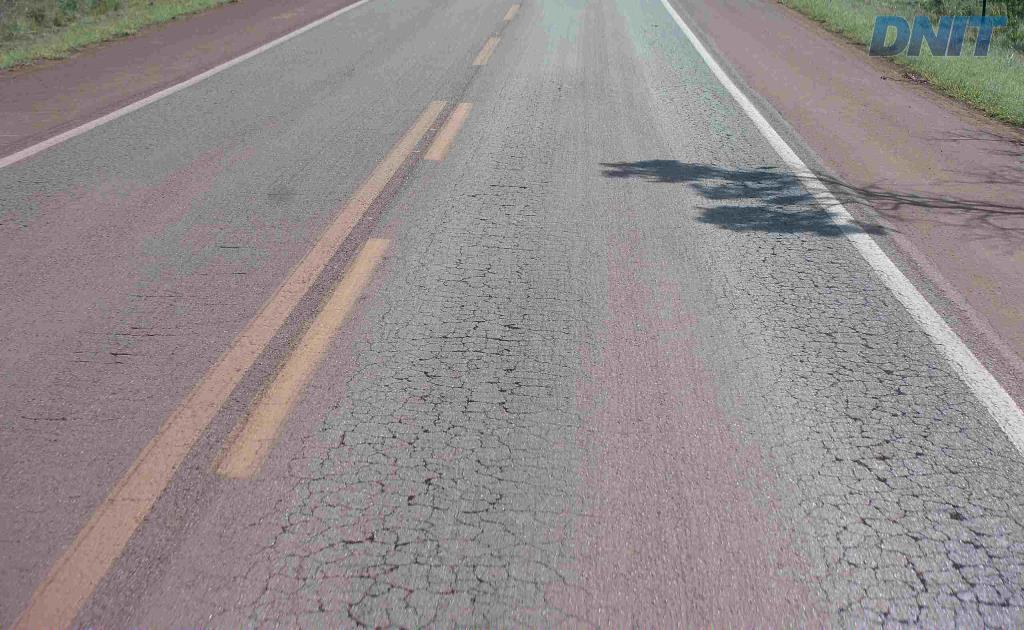crack: (904, 528, 1012, 604), (844, 323, 912, 412), (961, 538, 1017, 600)
